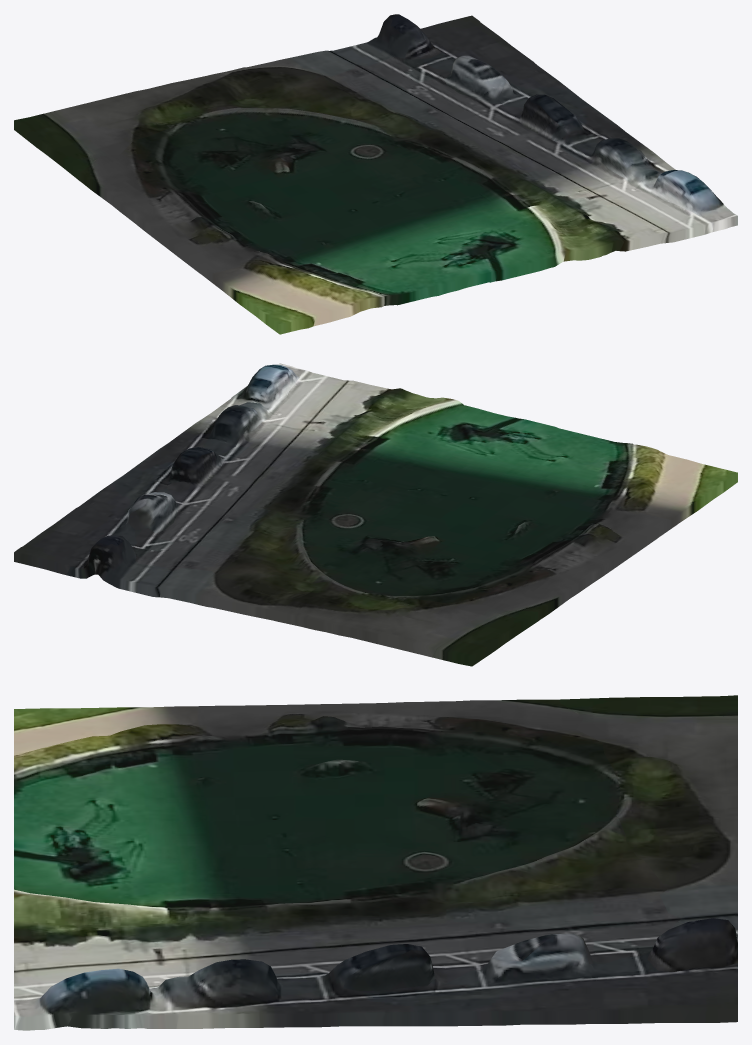
Rendered from z20-167783-405217-h0-yup-uvflip-v3-world.glb.
The picture shows the model from 3 angles, top to bottom: view 1: azimuth 30°, elevation 25°; view 2: azimuth 150°, elevation 25°; view 3: azimuth 270°, elevation 25°; orthographic projection. The views are drawn at different scales.
Size of the model in its own units: 30.16 by 2.56 by 30.32.
1 material, 1 textured.
